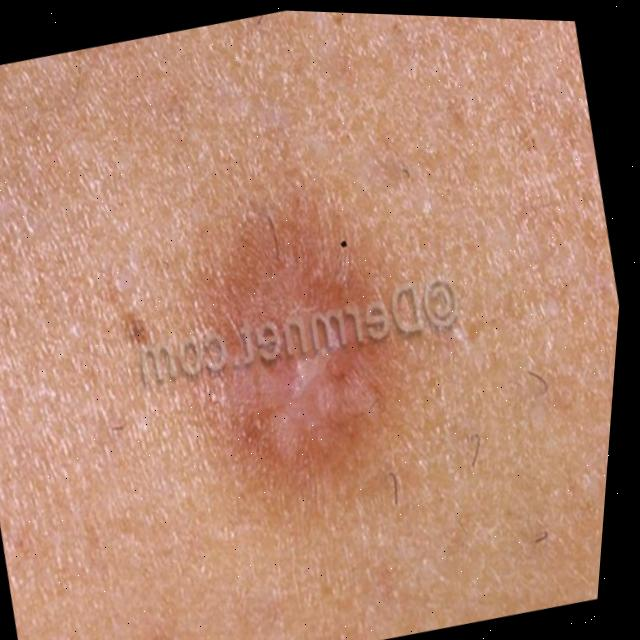Eczema: (164, 183, 421, 481)
